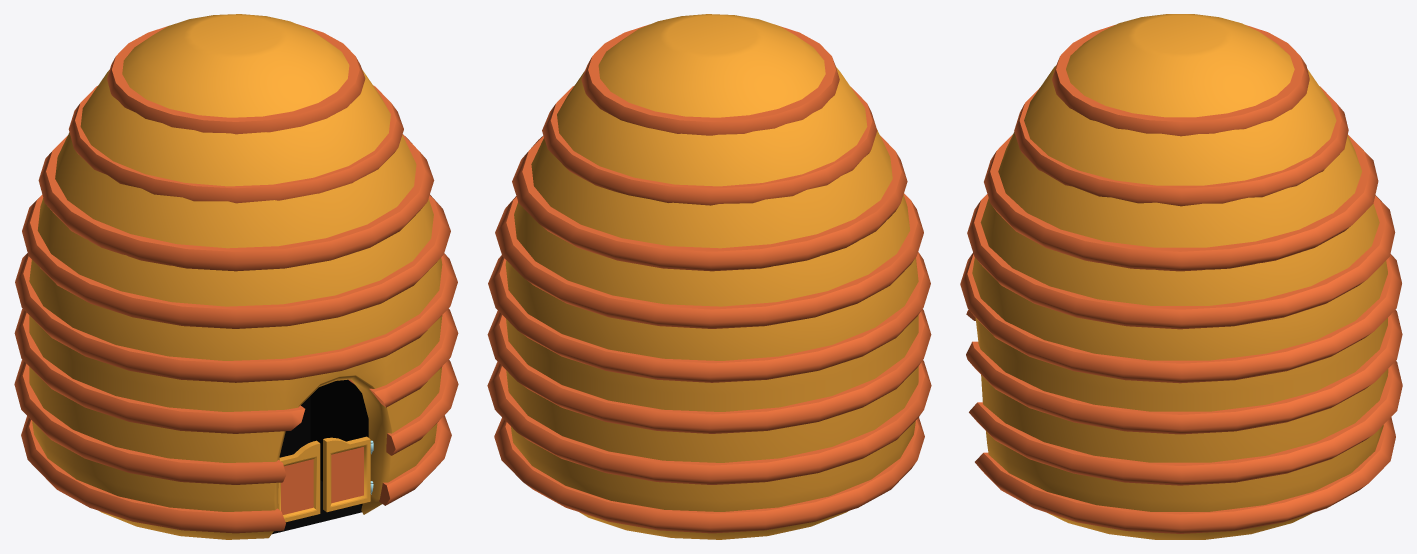
Rendered from me_Hive01.fbx.
The picture shows the model from 3 angles, left to right: view 1: azimuth 30°, elevation 25°; view 2: azimuth 150°, elevation 25°; view 3: azimuth 270°, elevation 25°; orthographic projection.
Visible parts, largest first — view 1: me_Hive01; view 2: me_Hive01; view 3: me_Hive01.
Boxes of the visible parts, x1,y1,x2,y2 form: me_Hive01: (14, 14, 458, 539); me_Hive01: (487, 14, 931, 539); me_Hive01: (960, 14, 1402, 539).
Bounding box in the file's own units: 235 × 253 × 234.
1 material, 1 textured.
